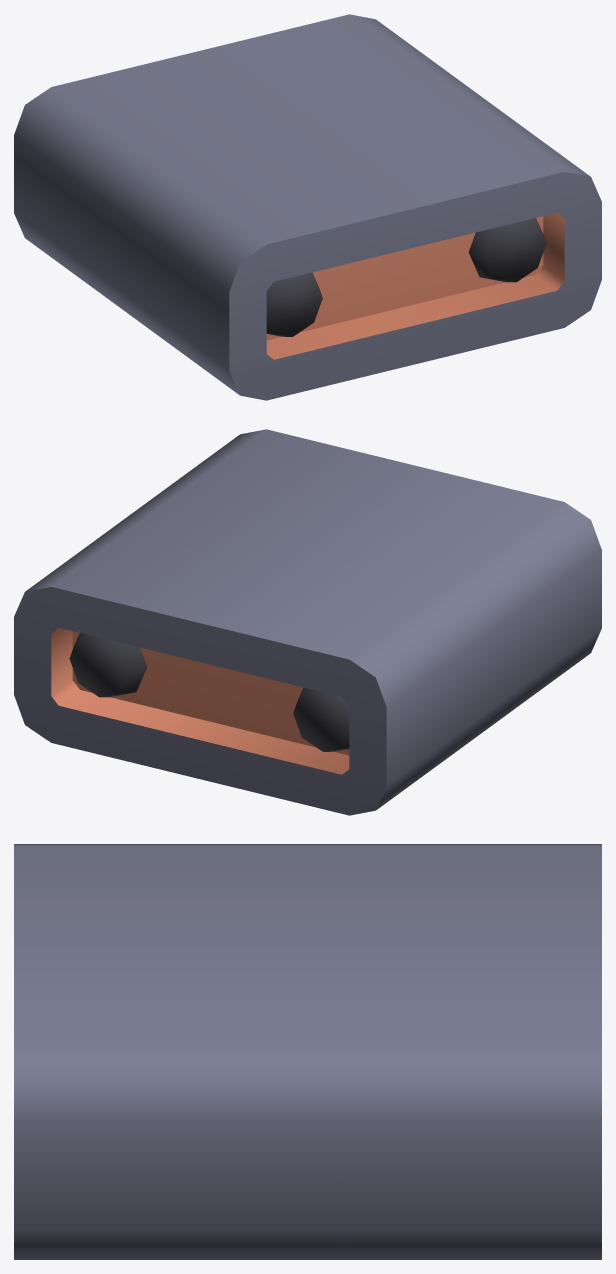
Rendered from conveyor.obj.
The picture shows the model from 3 angles, top to bottom: view 1: azimuth 30°, elevation 25°; view 2: azimuth 150°, elevation 25°; view 3: azimuth 270°, elevation 25°; orthographic projection. The views are drawn at different scales.
Parts seen in each view (by area): view 1: conveyor; view 2: conveyor; view 3: conveyor.
Boxes of the visible parts, left/top/right/bottom form: conveyor: left=14, top=14, right=601, bottom=400; conveyor: left=14, top=429, right=601, bottom=815; conveyor: left=14, top=844, right=601, bottom=1259.
Size of the model in its own units: 1 by 0.4 by 1.
